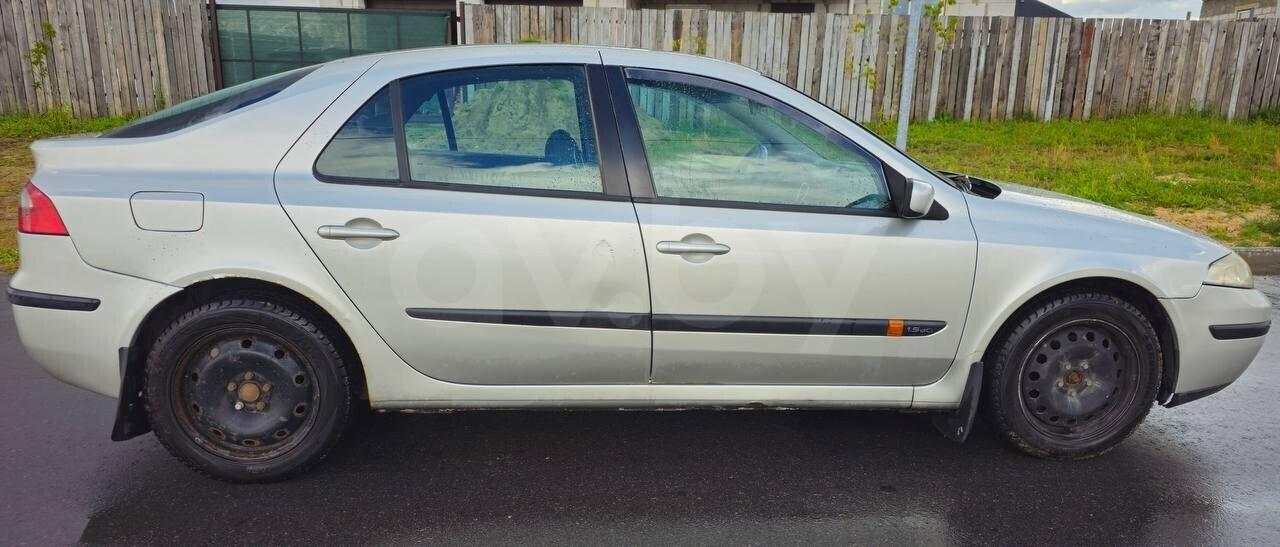Laguna_2001-2005: (4, 43, 1269, 482)
